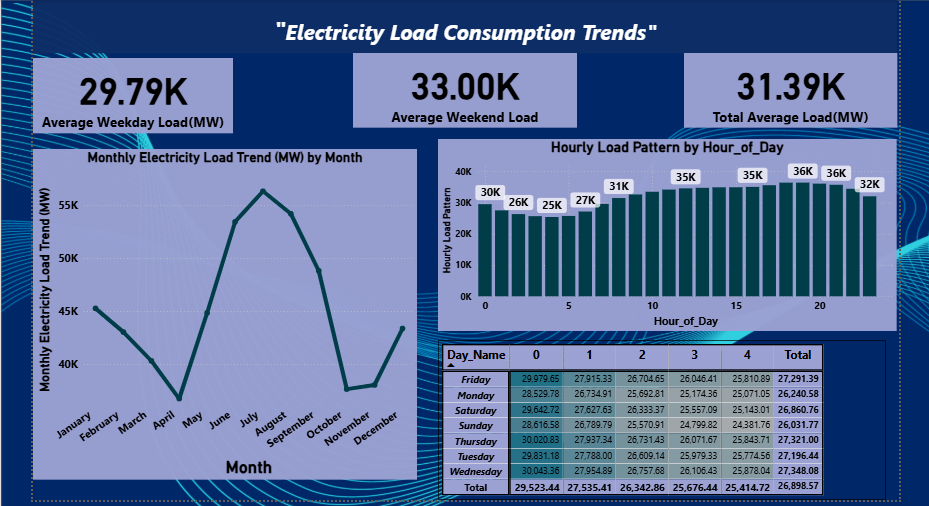

Layout of this report page (visuals, bound fields, positions):
{"tool":"powerbi","page":{"name":"Page 1","canvas":[1300,750],"ordinal":0},"visuals":[{"type":"textbox","box":[0,0,1296,80],"z":0},{"type":"card","fields":{"Values":["Avg(weekday vs weekend avg (2).Avg_Load_MW)"]},"box":[0,87,300.3,112.6],"z":1000},{"type":"card","fields":{"Values":["Avg(weekday vs weekend avg (2).Avg_Load_MW)"]},"box":[480,80,336,112],"z":2000},{"type":"card","fields":{"Values":["Avg(weekday vs weekend avg (2).Avg_Load_MW)"]},"box":[976,80,320,112],"z":3000},{"type":"lineChart","fields":{"Category":["monthly avg load.Month.Variation.Date Hierarchy.Month"],"Y":["Avg(monthly avg load.Monthly_Peak_Load_MW)"]},"box":[0,224,576,496],"z":4000},{"type":"lineClusteredColumnComboChart","fields":{"Category":["hourly average load.Hour_of_Day"],"Y":["Avg(hourly average load.Avg_Load_MW)"]},"box":[608,208,688,288],"z":5000},{"type":"pivotTable","fields":{"Rows":["day_hour_avg.Day_Name"],"Columns":["day_hour_avg.Hour"],"Values":["Avg(day_hour_avg.Avg_MW)"]},"box":[608,510,672,240],"z":6000}]}

Visuals, with their boxes in screenshot pixels (x1, y1, x2, y2):
textbox: x1=31 y1=0 x2=893 y2=51
card - Avg(weekday vs weekend avg (2).Avg_Load_MW): x1=31 y1=55 x2=231 y2=130
card - Avg(weekday vs weekend avg (2).Avg_Load_MW): x1=351 y1=51 x2=574 y2=125
card - Avg(weekday vs weekend avg (2).Avg_Load_MW): x1=680 y1=51 x2=893 y2=125
lineChart - monthly avg load.Month.Variation.Date Hierarchy.Month x Avg(monthly avg load.Monthly_Peak_Load_MW): x1=31 y1=147 x2=414 y2=476
lineClusteredColumnComboChart - hourly average load.Hour_of_Day x Avg(hourly average load.Avg_Load_MW): x1=436 y1=136 x2=893 y2=327
pivotTable - day_hour_avg.Day_Name x day_hour_avg.Hour: x1=436 y1=337 x2=882 y2=496
